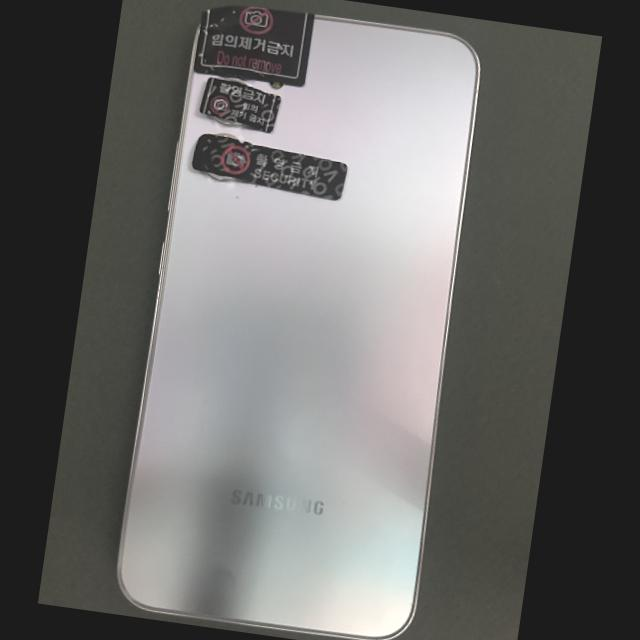lens: (213, 116, 242, 126), (205, 172, 236, 181)
phone: (119, 7, 479, 639)
sticker: (193, 134, 346, 200), (195, 6, 313, 86), (200, 78, 280, 132)
